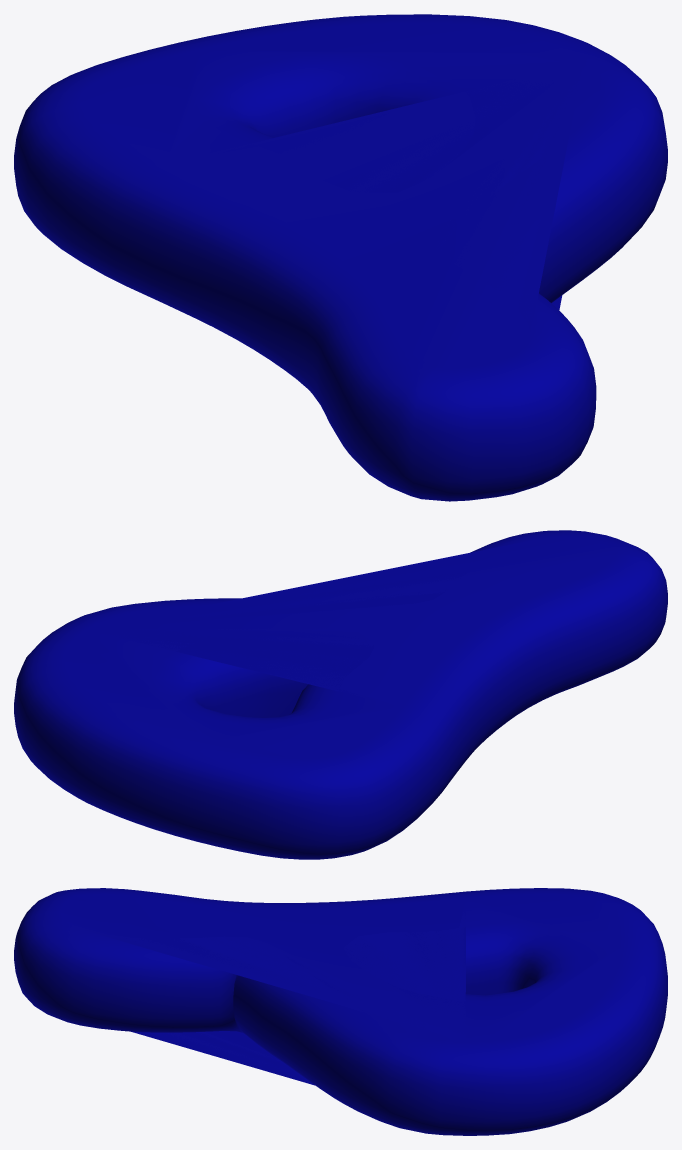
3 views of the same model, one above another, from view 1: azimuth 30°, elevation 25°; view 2: azimuth 150°, elevation 25°; view 3: azimuth 270°, elevation 25° (orthographic). The views are drawn at different scales.
Visible parts, largest first — view 1: Curve.017; view 2: Curve.017; view 3: Curve.017.
Part boxes in pixels (<box>): Curve.017: <box>14,14,667,501</box>; Curve.017: <box>14,530,667,859</box>; Curve.017: <box>14,888,667,1135</box>.
Size of the model in its own units: 227 by 49.54 by 335.
1 material, 1 textured.
